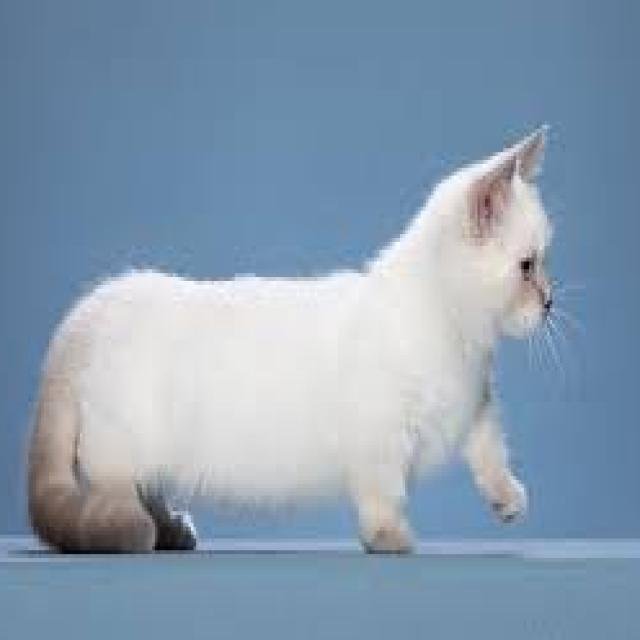Munchkin: (25, 118, 558, 566)
